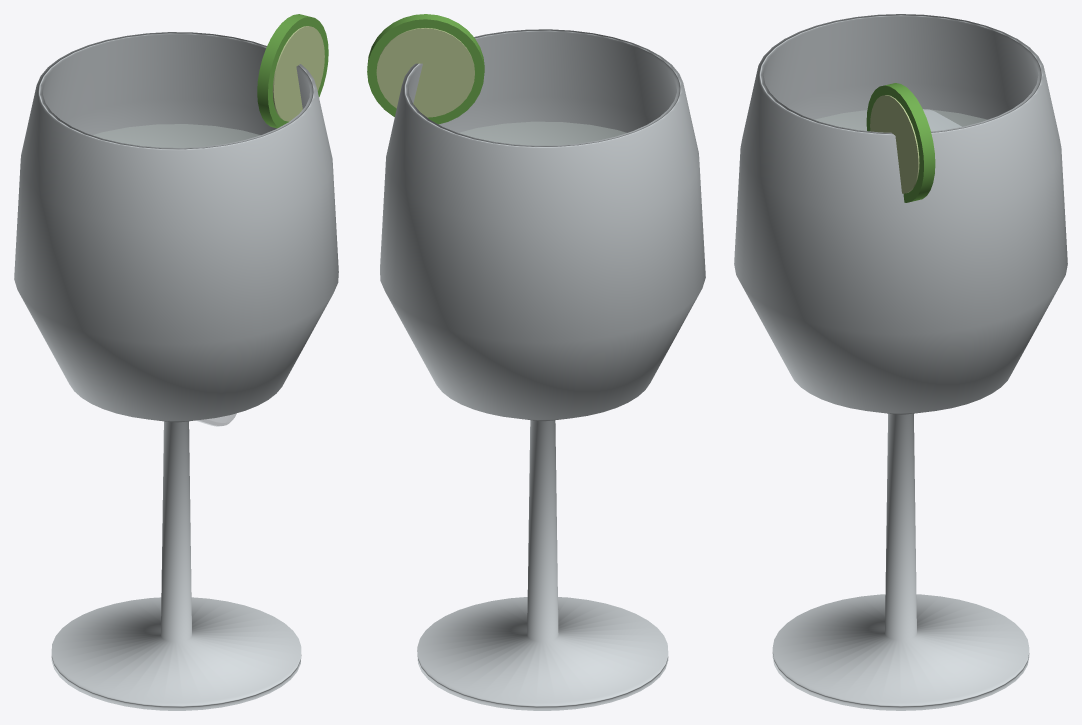
The model's file is cocktail-gin-hendrick-s.glb.
3 views of the same model, side by side, from view 1: azimuth 30°, elevation 25°; view 2: azimuth 150°, elevation 25°; view 3: azimuth 270°, elevation 25° (orthographic). The views are drawn at different scales.
Bounding box in the file's own units: 0.1124 × 0.2154 × 0.104.
